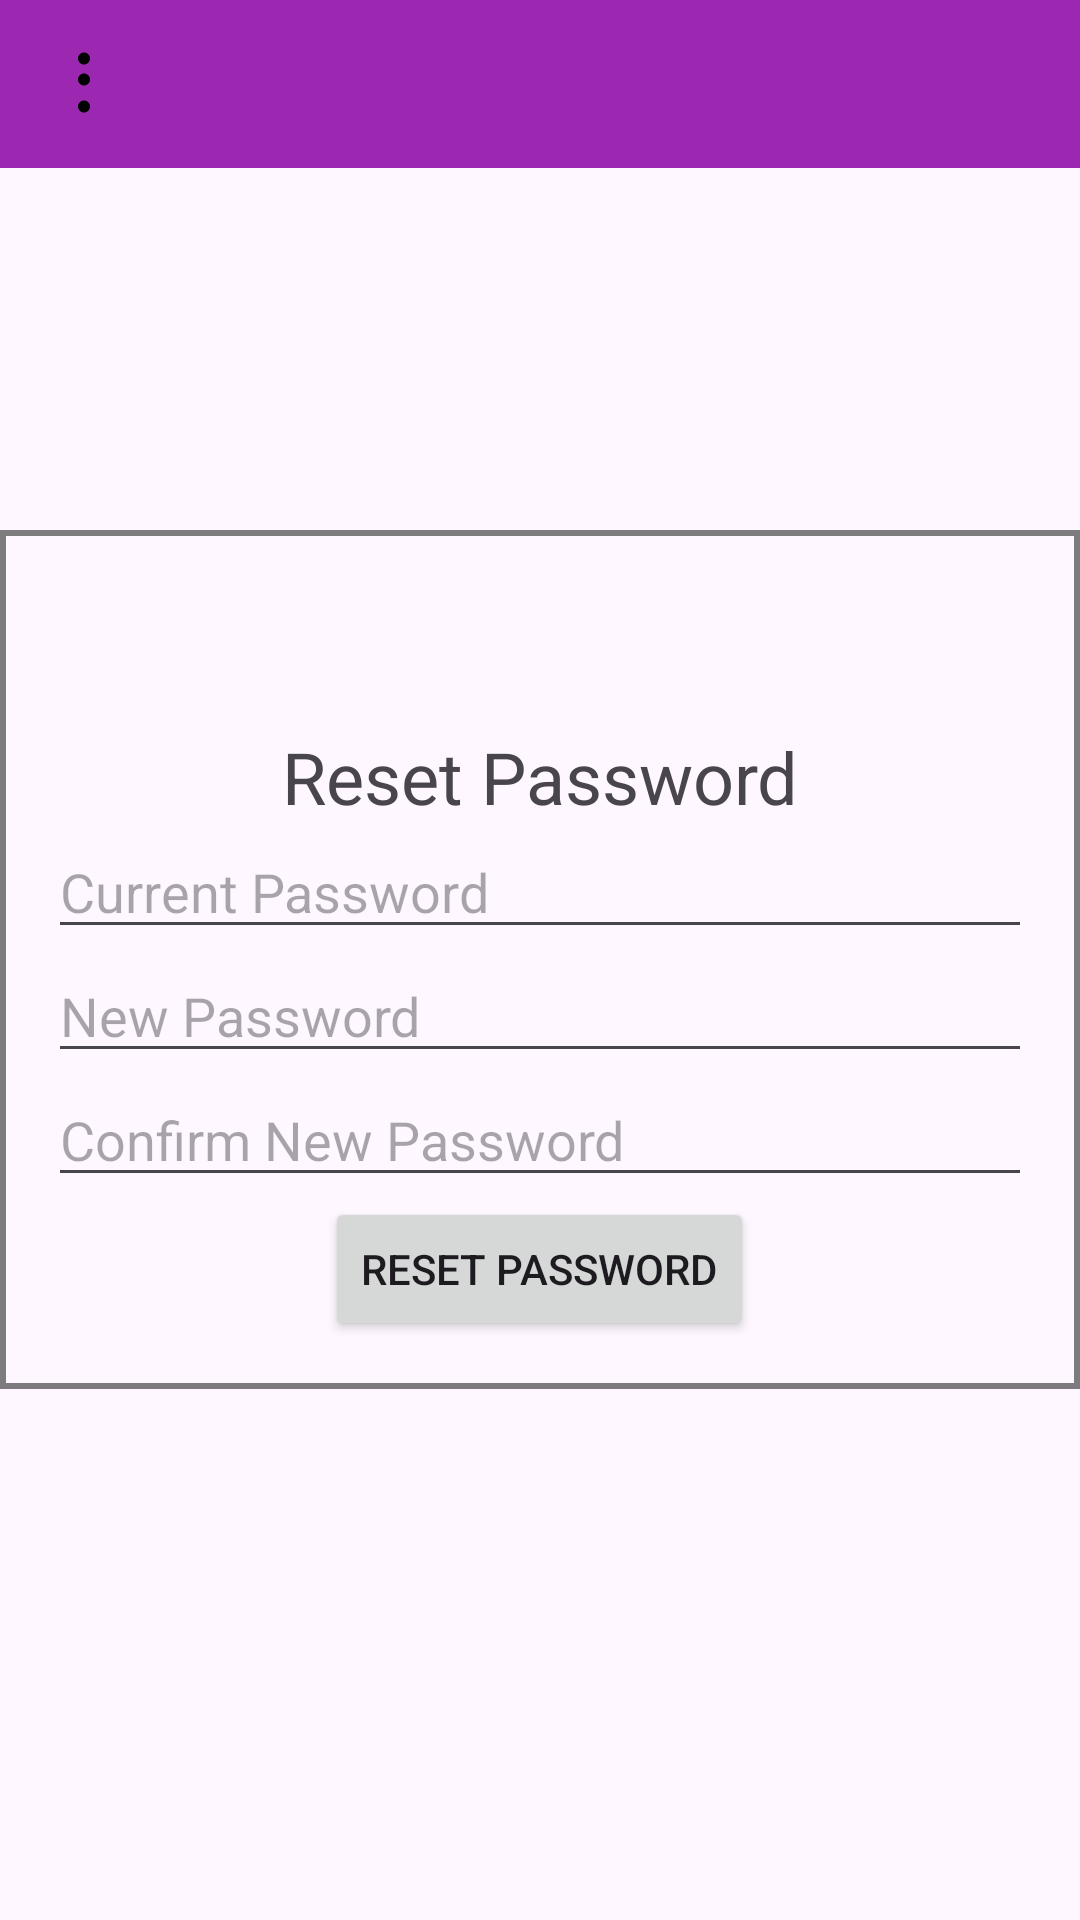

Screen size 1080w x 1920h. Icon name, then its center in pixels as [x,y]:
Three Dot Menu: [84,82]
